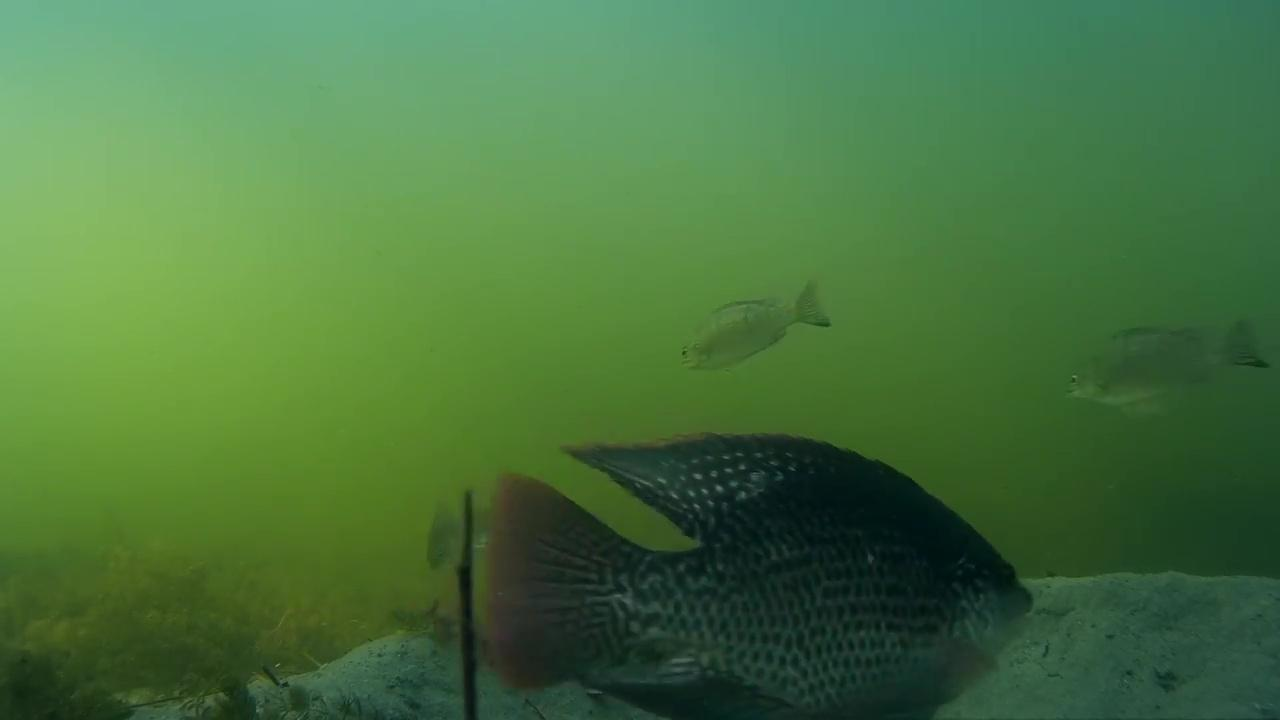Tilapia: (476, 434, 1047, 718), (1061, 316, 1270, 412), (677, 278, 828, 384)
